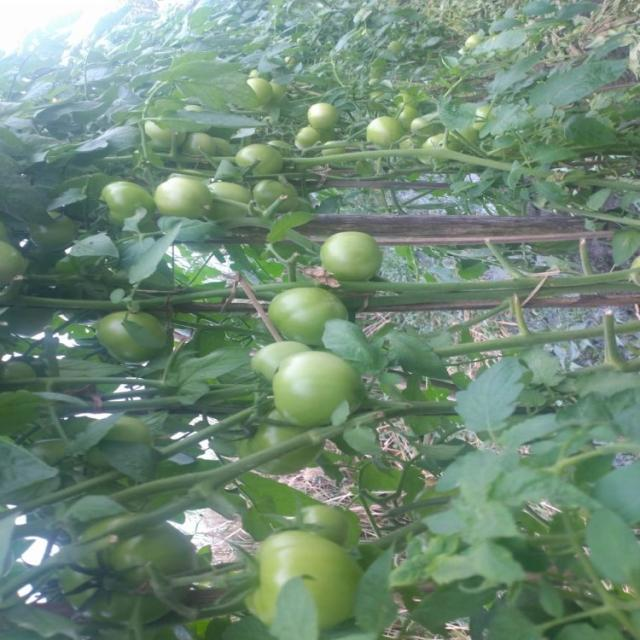tomato: (235, 524, 371, 639), (56, 514, 196, 616), (264, 355, 362, 439), (271, 276, 357, 350), (319, 234, 387, 293), (160, 166, 218, 229), (95, 307, 166, 358), (105, 174, 156, 236), (243, 340, 311, 381), (211, 170, 254, 232), (295, 495, 343, 549), (228, 138, 285, 182), (351, 111, 409, 151), (244, 70, 287, 111), (1, 237, 34, 290), (182, 128, 226, 164), (284, 121, 324, 160), (257, 179, 293, 219), (414, 116, 450, 152), (305, 97, 330, 136), (454, 27, 486, 50)
